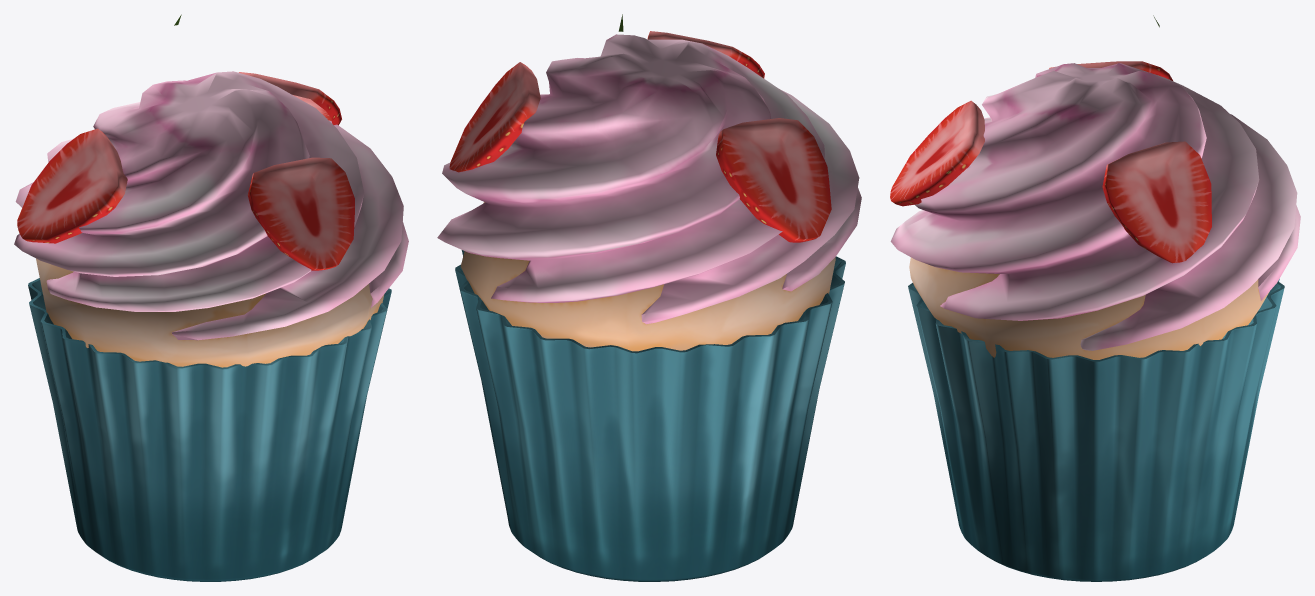
Rendered from cupcake.obj.
3 views of the same model, side by side, from view 1: azimuth 30°, elevation 25°; view 2: azimuth 150°, elevation 25°; view 3: azimuth 270°, elevation 25° (orthographic). The views are drawn at different scales.
Parts seen in each view (by area): view 1: obj1, obj2, obj2.001, obj2.003, obj2.004, obj2.002; view 2: obj1, obj2, obj2.001, obj2.004, obj2.002, obj2.003; view 3: obj1, obj2, obj2.001, obj2.002, obj2.003, obj2.004.
Part boxes in pixels (left/top/right/bottom): obj1: left=28, top=278, right=391, bottom=581; obj2: left=14, top=71, right=408, bottom=340; obj2.001: left=36, top=258, right=384, bottom=367; obj2.003: left=247, top=157, right=354, bottom=270; obj2.004: left=17, top=128, right=127, bottom=243; obj2.002: left=239, top=72, right=341, bottom=125; obj1: left=455, top=250, right=845, bottom=581; obj2: left=437, top=34, right=861, bottom=324; obj2.001: left=460, top=202, right=835, bottom=351; obj2.004: left=716, top=118, right=831, bottom=242; obj2.002: left=449, top=62, right=540, bottom=172; obj2.003: left=647, top=31, right=764, bottom=78; obj1: left=908, top=279, right=1284, bottom=581; obj2: left=890, top=63, right=1300, bottom=350; obj2.001: left=909, top=257, right=1269, bottom=359; obj2.002: left=1102, top=141, right=1211, bottom=263; obj2.003: left=890, top=100, right=984, bottom=206; obj2.004: left=1049, top=61, right=1172, bottom=80.
Bounding box in the file's own units: 5.98 × 8.13 × 5.9.
Materials: 1 (1 with a texture image).
